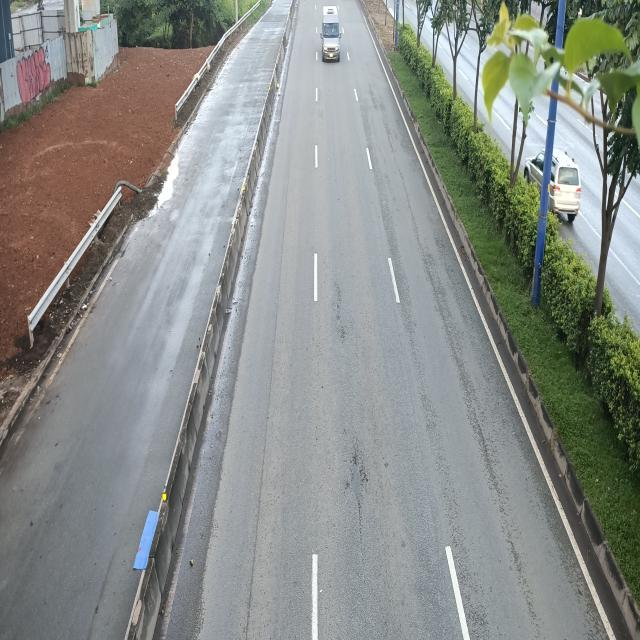van: (319, 5, 342, 64)
